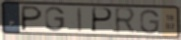G: (139, 9, 161, 35), (44, 6, 66, 32)
I: (76, 7, 83, 34)
P: (19, 5, 44, 32), (90, 6, 114, 34)
R: (113, 7, 138, 36)
